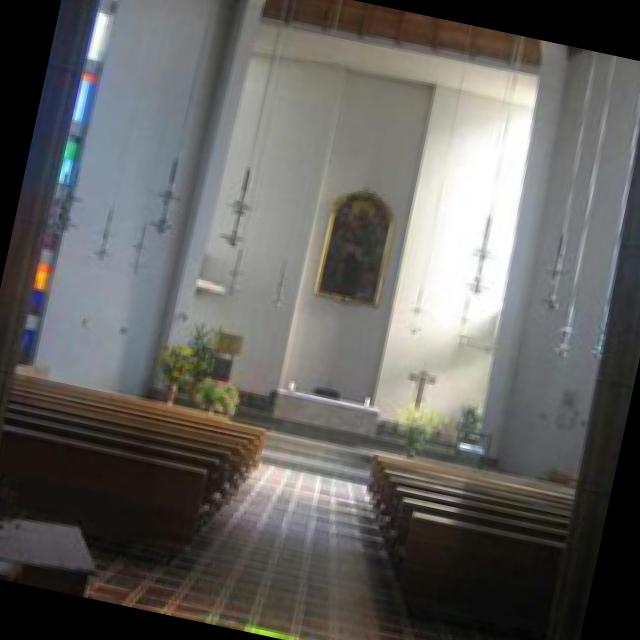altar: (268, 382, 375, 445)
altarpiece: (311, 187, 391, 303)
benches crop: (0, 362, 265, 556), (363, 448, 573, 638)
cross: (406, 367, 434, 412)
plant -x: (163, 321, 215, 397), (186, 375, 237, 411)
steps: (258, 421, 368, 477)
table lamp: (0, 511, 95, 594)
wall clock: (169, 0, 539, 459), (0, 0, 258, 435), (469, 39, 640, 640)
